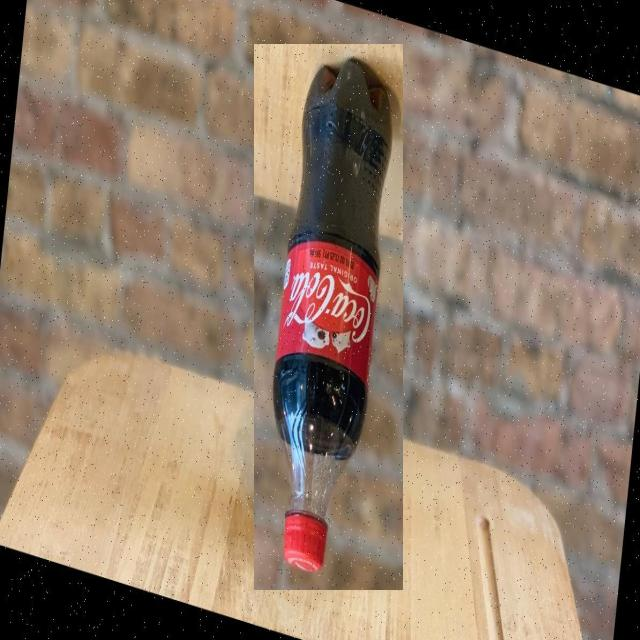coca-cola: (254, 44, 403, 590)
